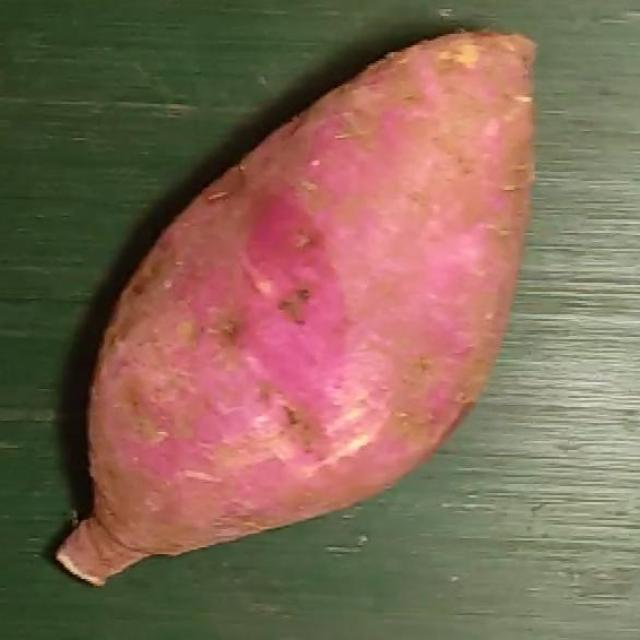Sweet Potato: (58, 29, 538, 588)
